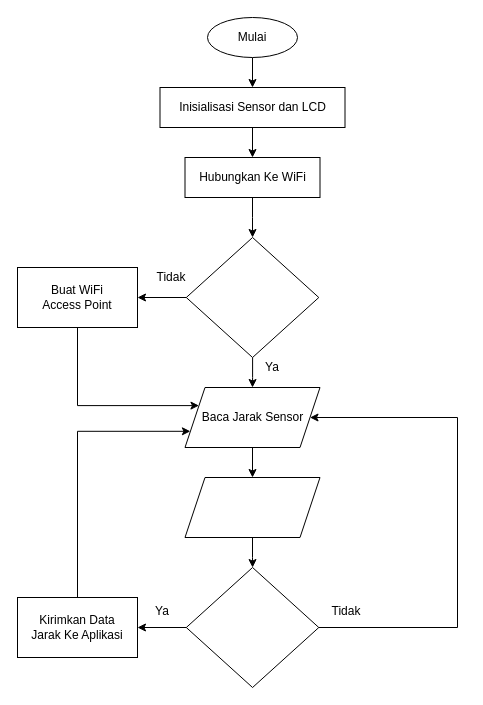
The diagram is 483 pixels wide and 705 high, and some of its shapes have lost their labels. The centre of each missing label's shape, as x and y in pixels:
"Aplikasi meminta nilai jarak" belongs at (252,627).
"Tampilkan Jarak pada LCD" belongs at (252,507).
"Terhubung ke WiFi" belongs at (252,297).
